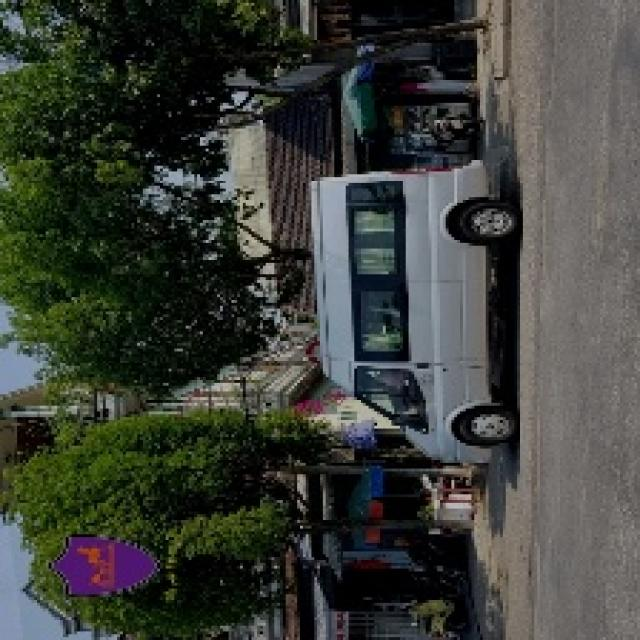car: (303, 147, 534, 493)
